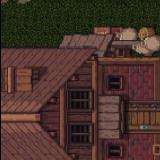Interaction: (150, 43, 160, 116)
Obstacle: (0, 6, 160, 160)
